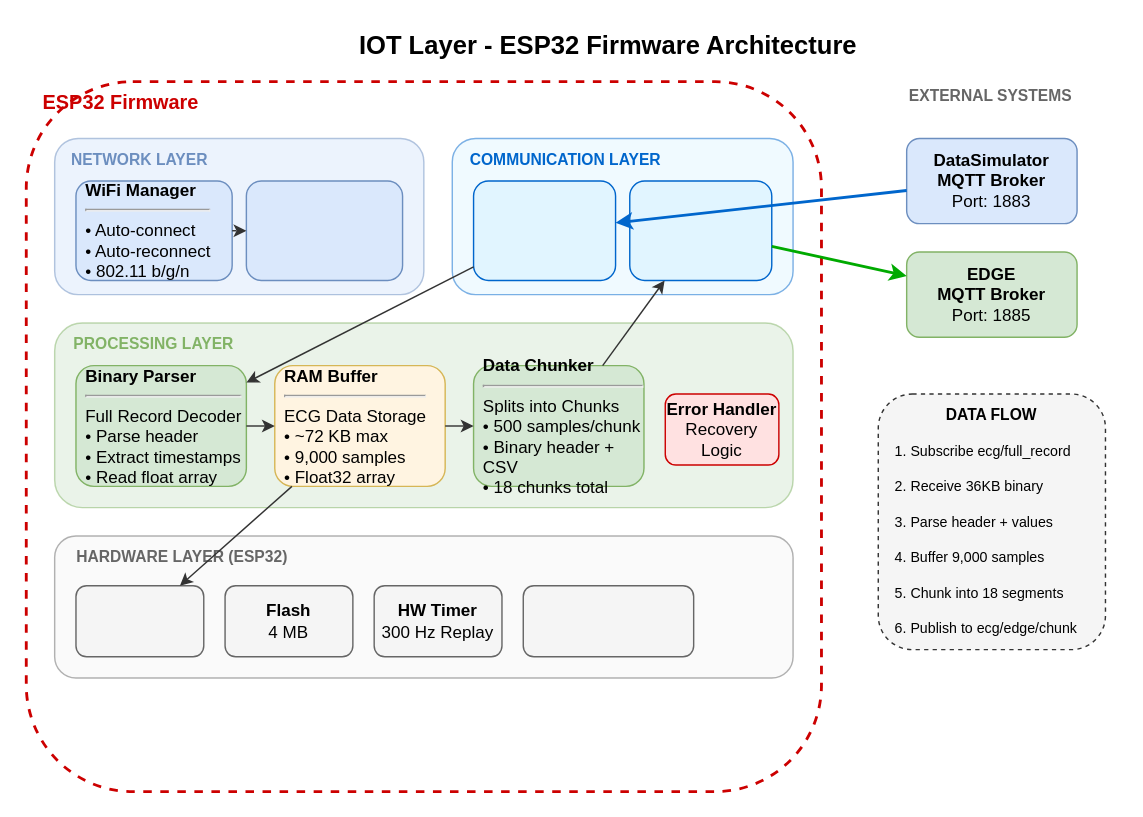
This 1143x817 diagram has some shape labels left out. The shapes that lost their labels are listed below. From the top down, each one's centre as x and y in pixels, then its label:
pixel 324 230: UDP Discovery • Broker discovery • Broadcast listener • IP resolution
pixel 544 230: MQTT Client 1 DataSimulator Port: 1883 Subscribe Mode
pixel 700 230: MQTT Client 2 EDGE Connection Port: 1885 Publish Mode
pixel 139 620: RAM 520 KB total
pixel 608 620: Configuration WiFi Creds, Settings
